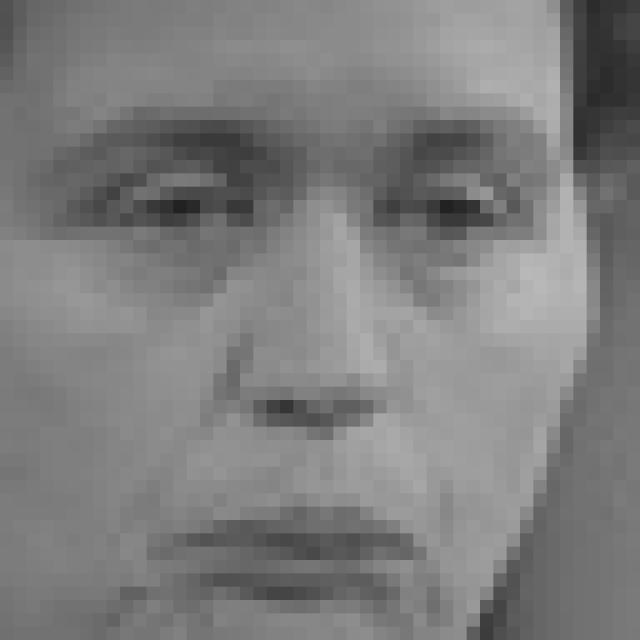sad: (34, 102, 556, 614)
